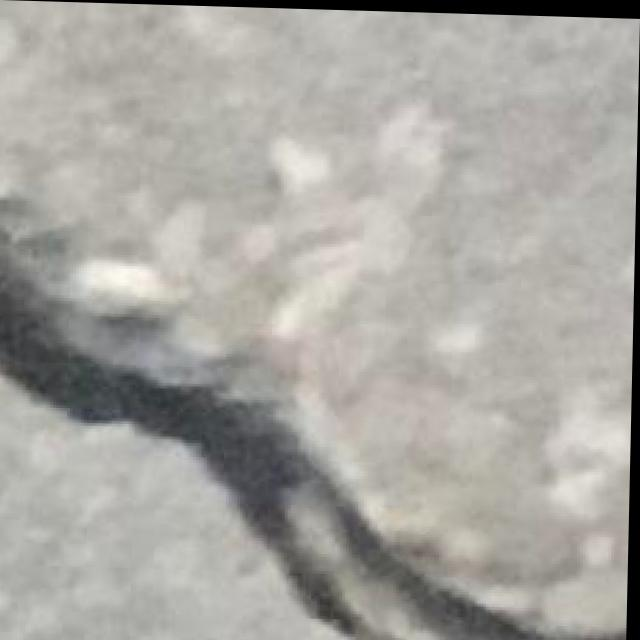Crack: (0, 246, 624, 640)
